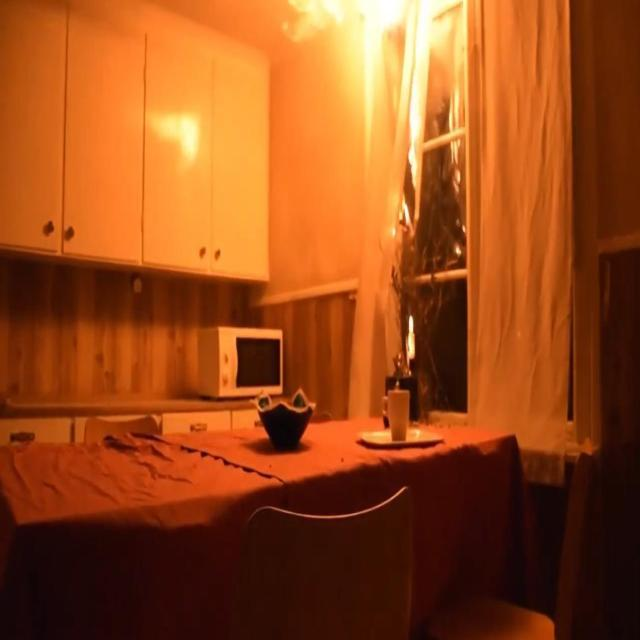smoke: (280, 0, 440, 131), (406, 312, 414, 358)
